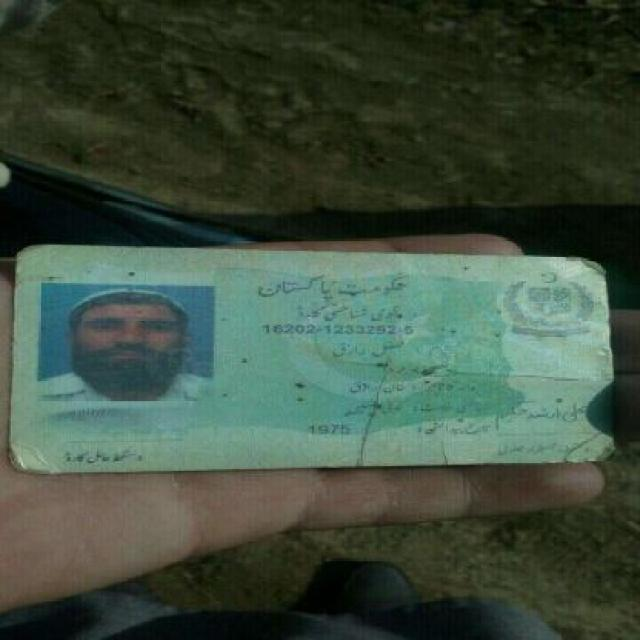Front: (6, 232, 629, 471)
